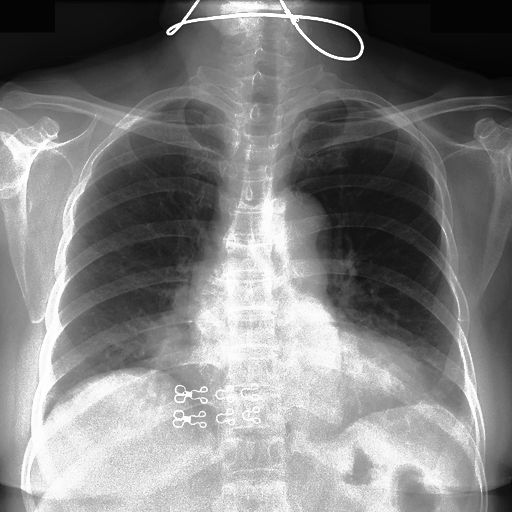Aortic enlargement: (143, 324, 223, 406)
Consolidation: (262, 194, 335, 244)
Nodule/Mass: (187, 324, 431, 411)
Pleural thickening: (143, 324, 223, 406)
